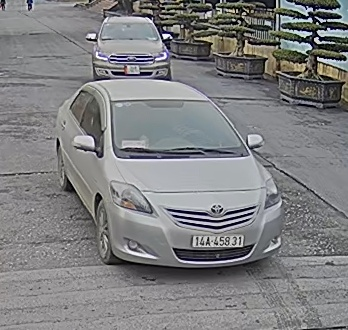vehicle plate: (190, 232, 247, 249)
